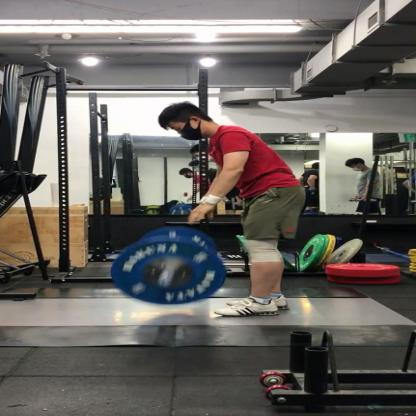Barbell: (102, 233, 235, 308)
